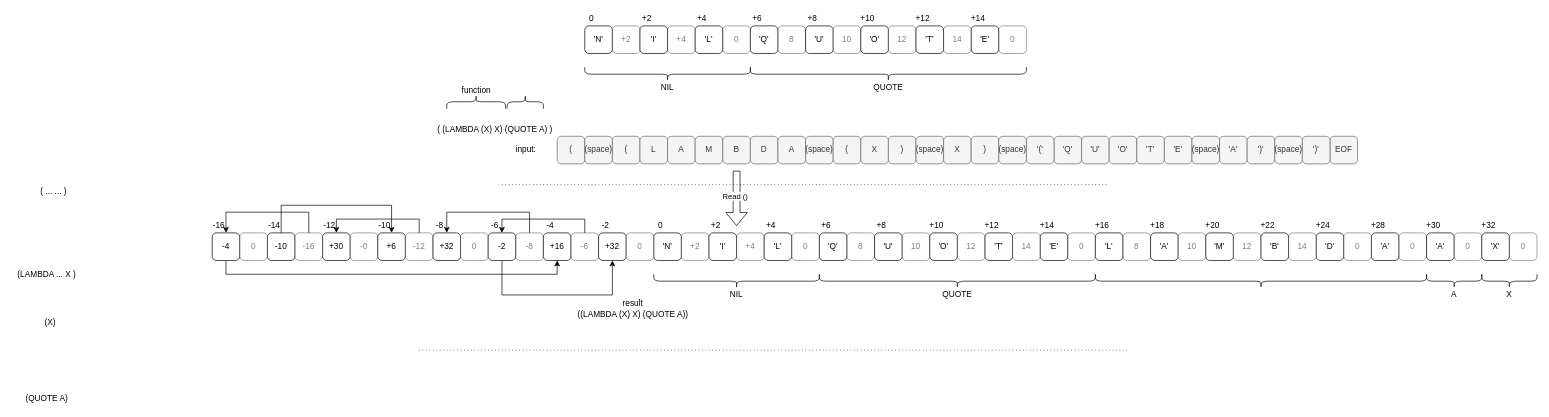
Image size: 1549x417. Some labels were removed from this diagram. The shapes that lost their labels are listed below. From the top down, each one's box as (x1, y1, x2, y2) in pixels, then its label:
(507, 94, 543, 109): arg
(1095, 274, 1427, 288): LAMBDA
